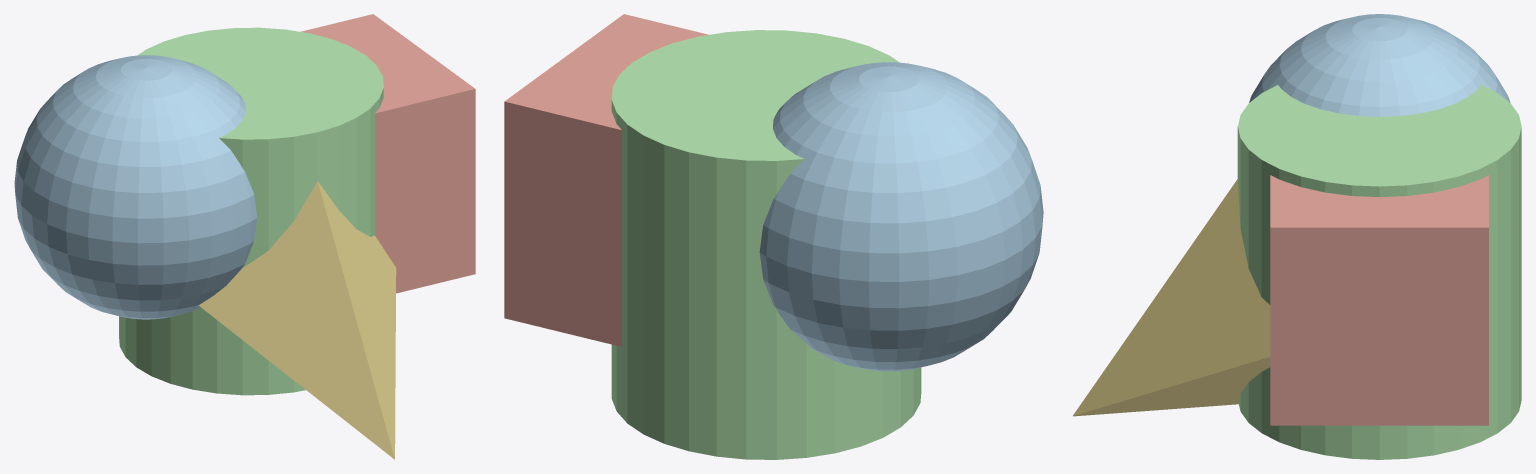
Rendered from cuerpo-amebaPlayer.glb.
3 views of the same model, side by side, from view 1: azimuth 30°, elevation 25°; view 2: azimuth 150°, elevation 25°; view 3: azimuth 270°, elevation 25° (orthographic). The views are drawn at different scales.
Parts seen in each view (by area): view 1: Sphere, Cylinder, Cone, Cube; view 2: Cylinder, Sphere, Cube; view 3: Cube, Cylinder, Cone, Sphere.
Boxes of the visible parts, x1=… form: Sphere: x1=14, y1=55, x2=257, y2=319; Cylinder: x1=119, y1=27, x2=383, y2=395; Cone: x1=198, y1=181, x2=396, y2=459; Cube: x1=300, y1=14, x2=475, y2=293; Cylinder: x1=611, y1=30, x2=921, y2=459; Sphere: x1=759, y1=62, x2=1043, y2=371; Cube: x1=504, y1=14, x2=708, y2=346; Cube: x1=1270, y1=175, x2=1488, y2=425; Cylinder: x1=1237, y1=85, x2=1521, y2=459; Cone: x1=1073, y1=179, x2=1270, y2=416; Sphere: x1=1249, y1=14, x2=1510, y2=116.
Size of the model in its own units: 3.15 by 2.4 by 2.92.
